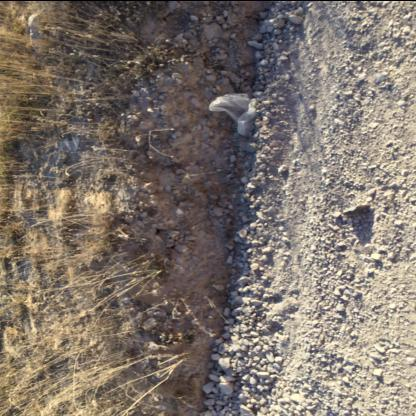plastik: (209, 92, 257, 136)
